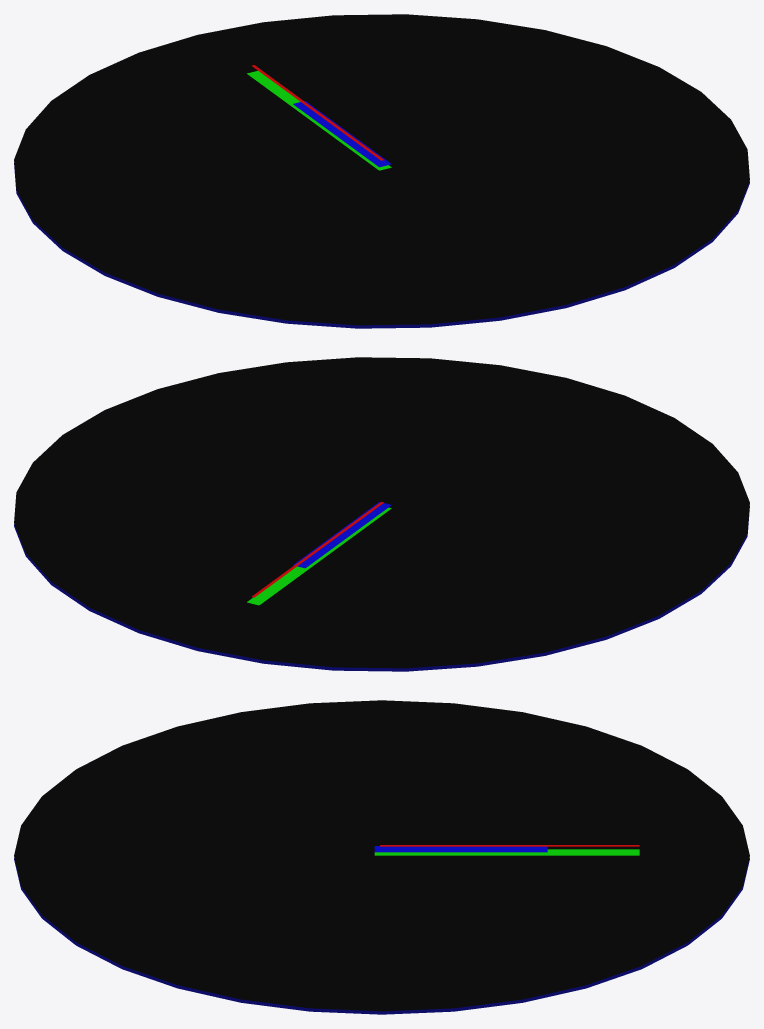
Rendered from Realtime Clock.dae.
3 views of the same model, one above another, from view 1: azimuth 30°, elevation 25°; view 2: azimuth 150°, elevation 25°; view 3: azimuth 270°, elevation 25° (orthographic).
Parts seen in each view (by area): view 1: Watch; view 2: Watch; view 3: Watch.
Boxes of the visible parts, box(x1,y1,x2,y2) form: Watch: box(14, 14, 749, 328); Watch: box(14, 357, 749, 671); Watch: box(14, 700, 749, 1014).
Size of the model in its own units: 2 by 2 by 0.04.
